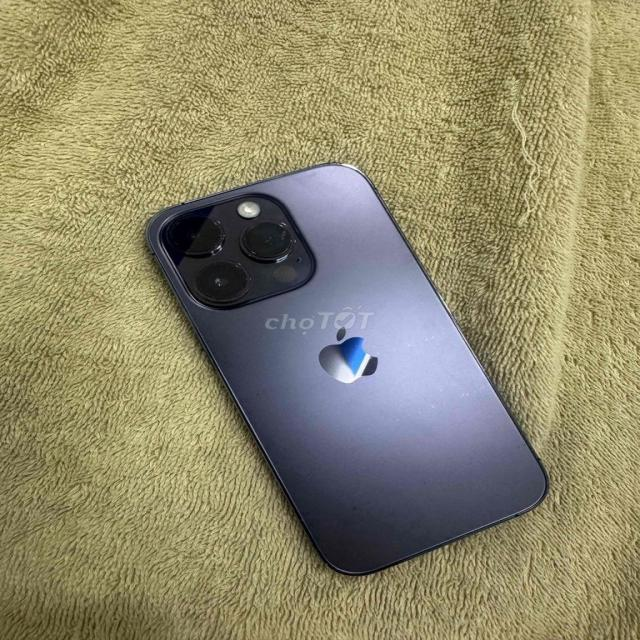gen_14: (147, 161, 566, 582)
